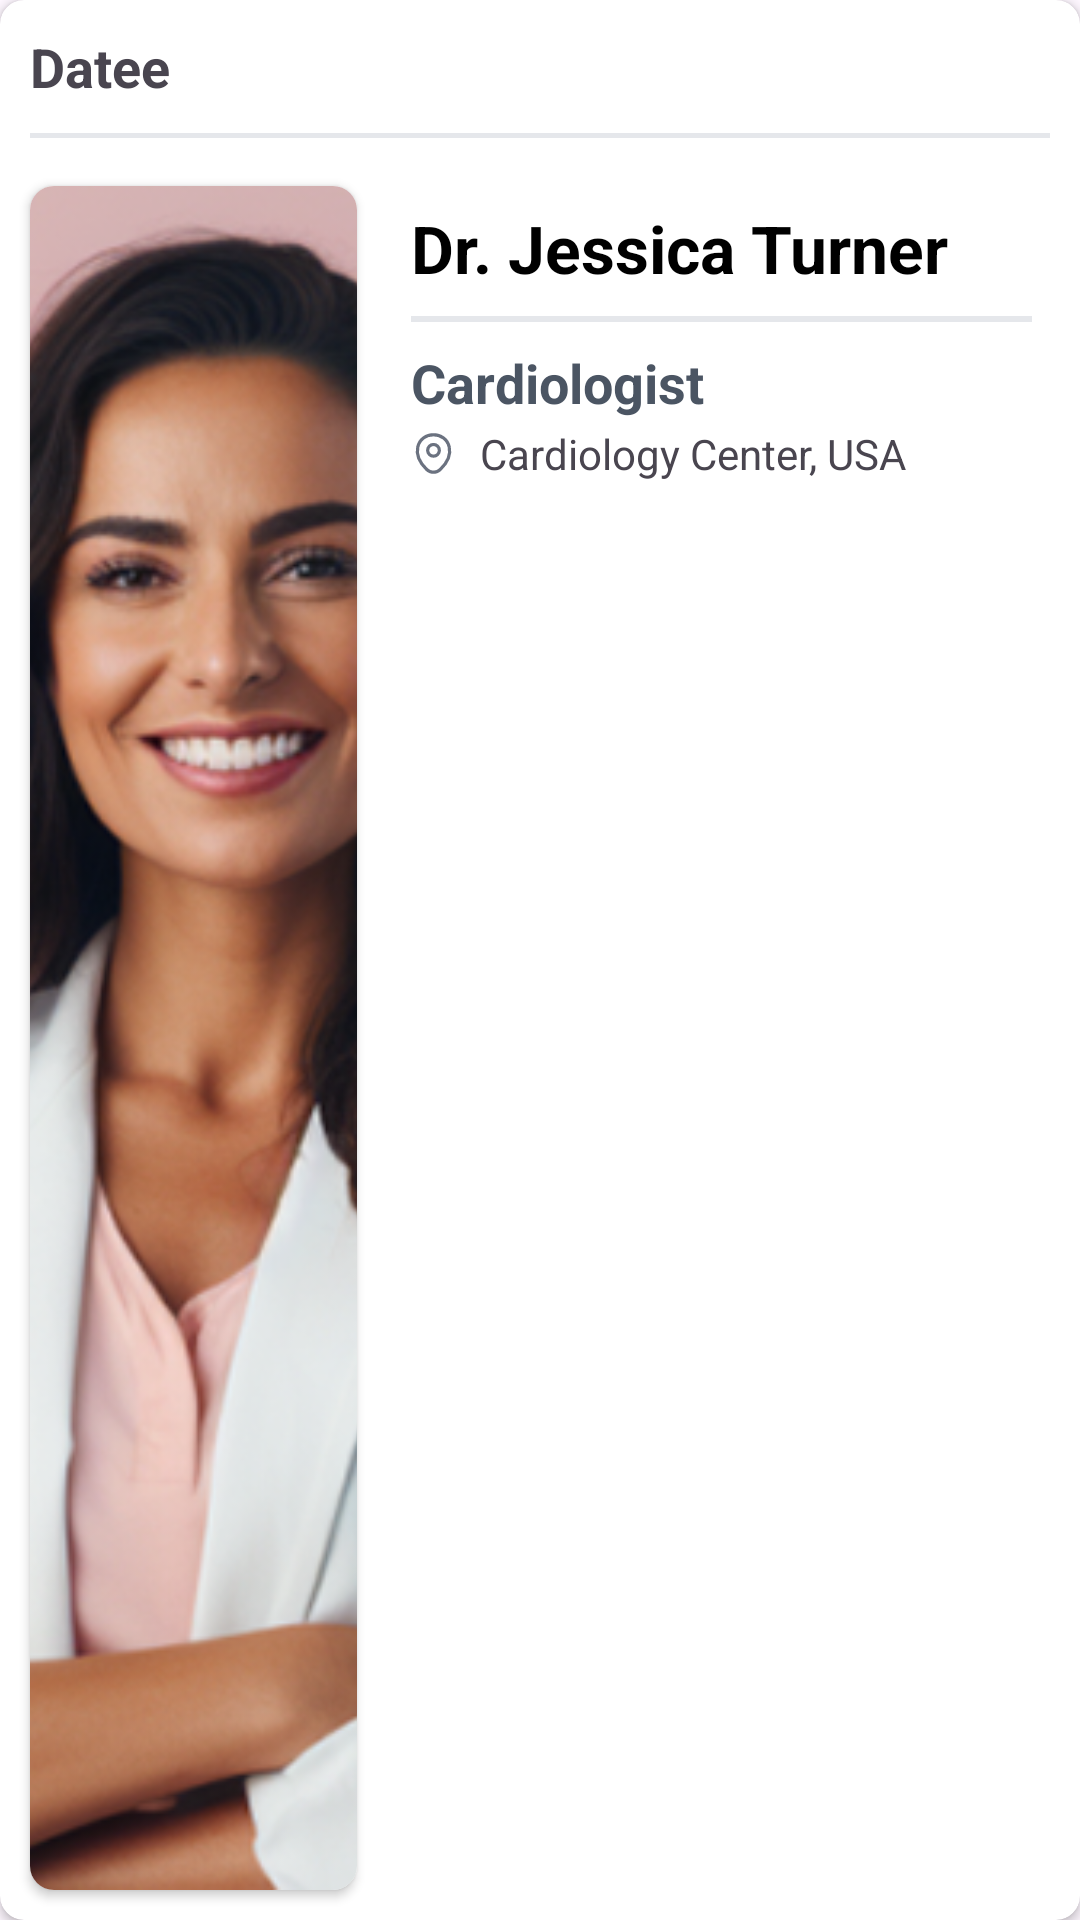

Icons on this 1080*1920 Android screen, each with the point to tap as [x,y]:
location street: [433,453]
